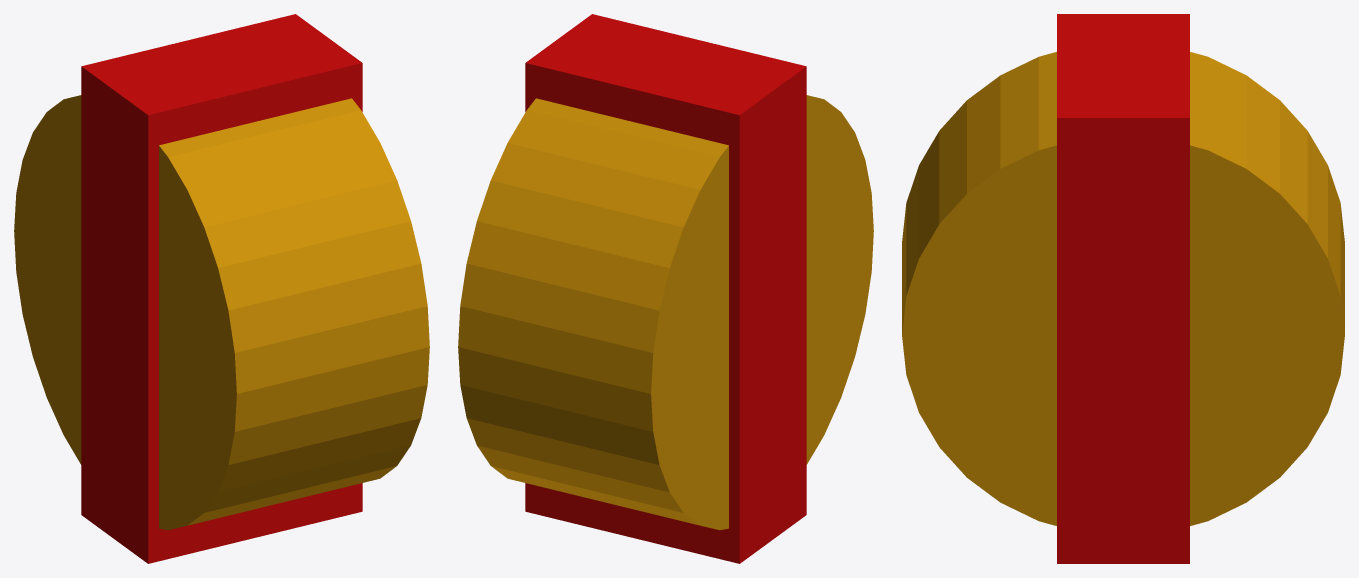
Rendered from coinGold.obj.
The picture shows the model from 3 angles, left to right: view 1: azimuth 30°, elevation 25°; view 2: azimuth 150°, elevation 25°; view 3: azimuth 270°, elevation 25°; orthographic projection.
Visible parts, largest first — view 1: Cylinder; view 2: Cylinder; view 3: Cylinder.
Part boxes in pixels (x1,y1,x2,y2): Cylinder: [14, 14, 429, 563]; Cylinder: [458, 14, 873, 563]; Cylinder: [902, 14, 1344, 563].
Size of the model in its own units: 1.11 by 2.22 by 2.
